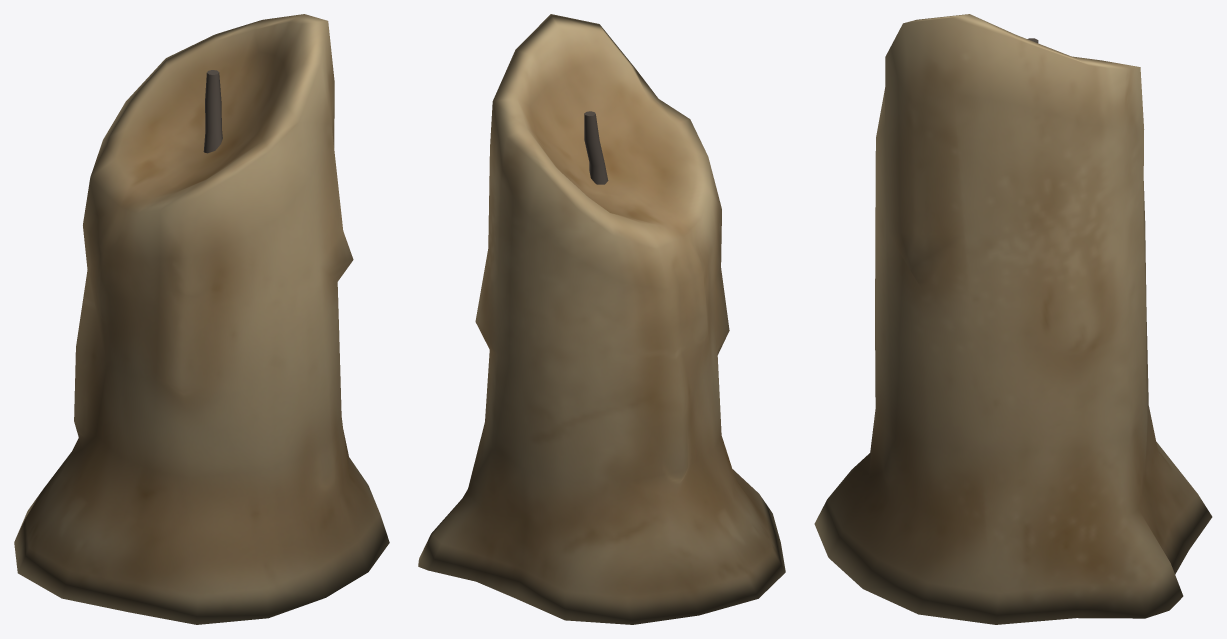
File: SM_candleC_a1.fbx
3 views of the same model, side by side, from view 1: azimuth 30°, elevation 25°; view 2: azimuth 150°, elevation 25°; view 3: azimuth 270°, elevation 25° (orthographic). The views are drawn at different scales.
Parts seen in each view (by area): view 1: SM_candleC_a1_LOD0; view 2: SM_candleC_a1_LOD0; view 3: SM_candleC_a1_LOD0.
Part boxes in pixels (x1=…): SM_candleC_a1_LOD0: x1=14, y1=14, x2=389, y2=624; SM_candleC_a1_LOD0: x1=418, y1=14, x2=785, y2=624; SM_candleC_a1_LOD0: x1=814, y1=14, x2=1212, y2=624.
Bounding box in the file's own units: 12.22 × 11.65 × 18.62.
1 material, 1 textured.
